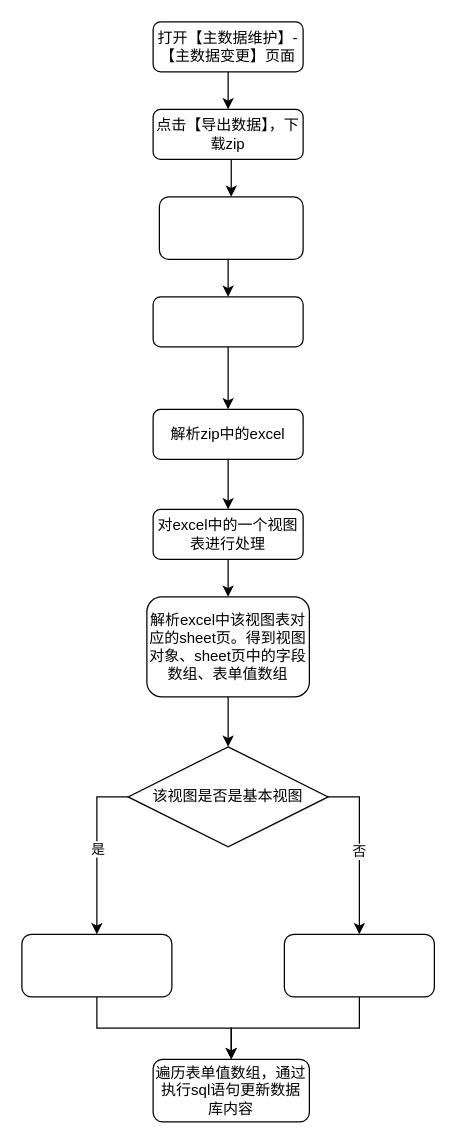
Image size: 456x1144. Some labels were removed from this diagram. Each missing label, with the centre of its shape:
"上传zip" belongs at [227,321].
"以SYS_CUSID_作为唯一id,结合字段数组拼接sql语句" belongs at [358,965].
"以SYS_ID_作为唯一ID，结合字段数组拼接sql语句" belongs at [96,965].
"用户修改zip中的excel，然后重新打包成zip" belongs at [230,227].
